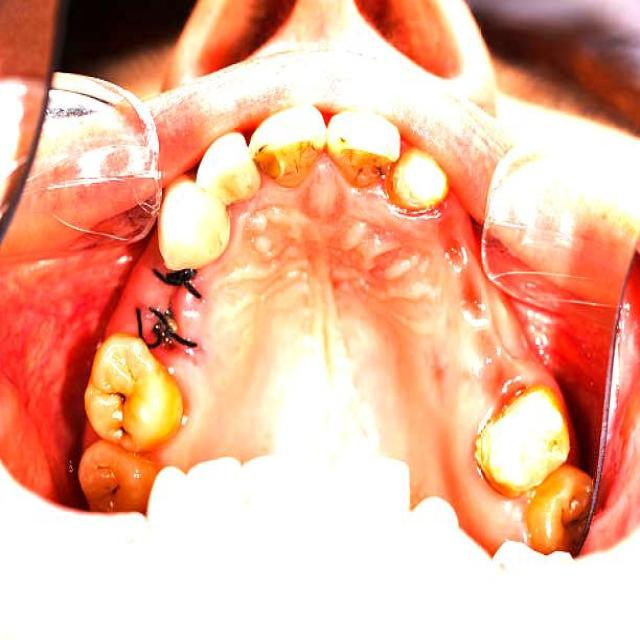caries: (254, 130, 324, 194), (330, 124, 393, 191), (552, 489, 590, 542), (93, 458, 127, 509), (105, 375, 137, 419), (113, 422, 141, 455)
